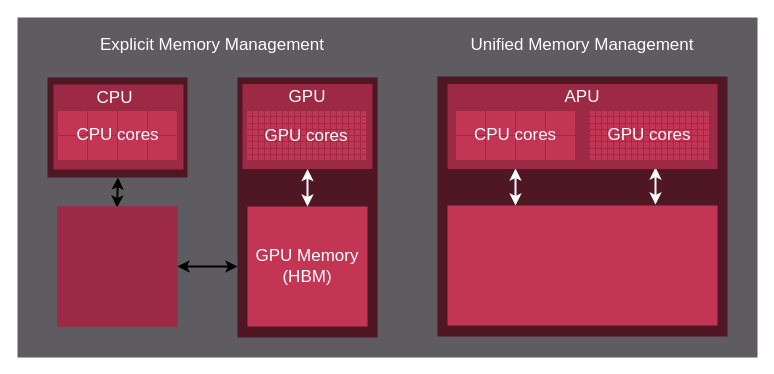
Image size: 774x374. Some labels were removed from this diagram. Here are the shapes that lost their labels. From the top down, the box of each, then its label:
(57, 206, 177, 326): CPU Memory (DRAM)
(447, 205, 717, 325): Unified Memory (HBM)
